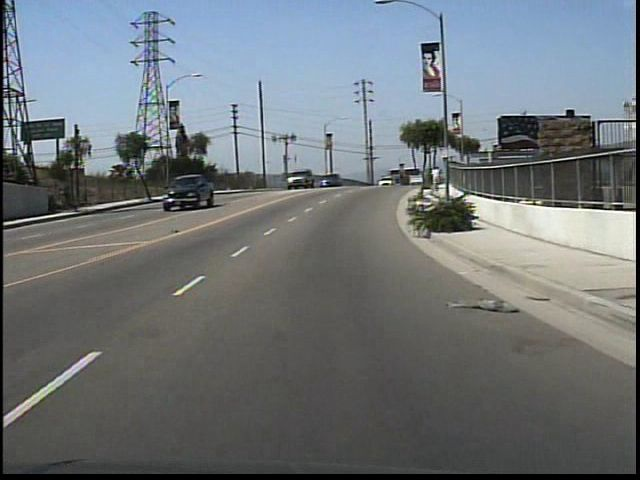person: (430, 164, 443, 192)
